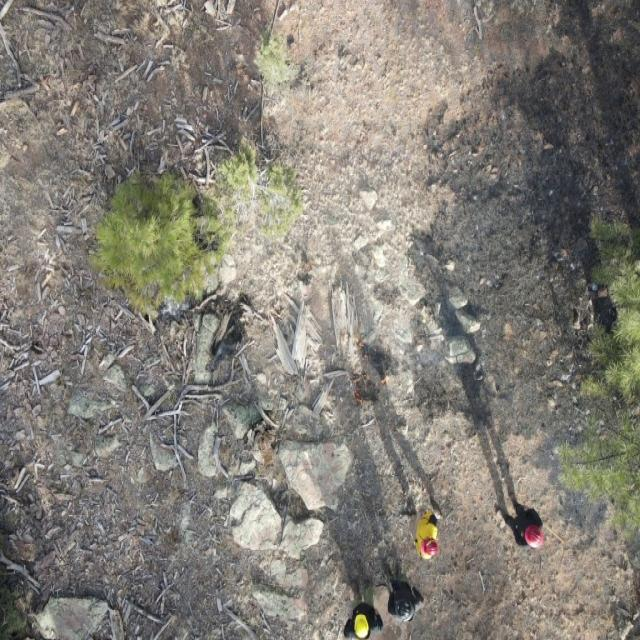fire: (352, 370, 370, 410), (354, 338, 377, 363), (378, 354, 394, 387)
